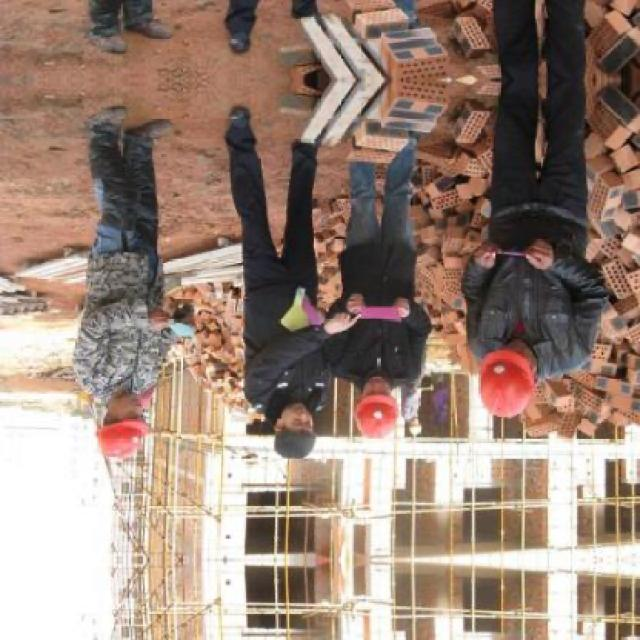con casco: (482, 296, 596, 416), (76, 398, 162, 462), (332, 371, 404, 447)
sin casco: (266, 384, 325, 462)
